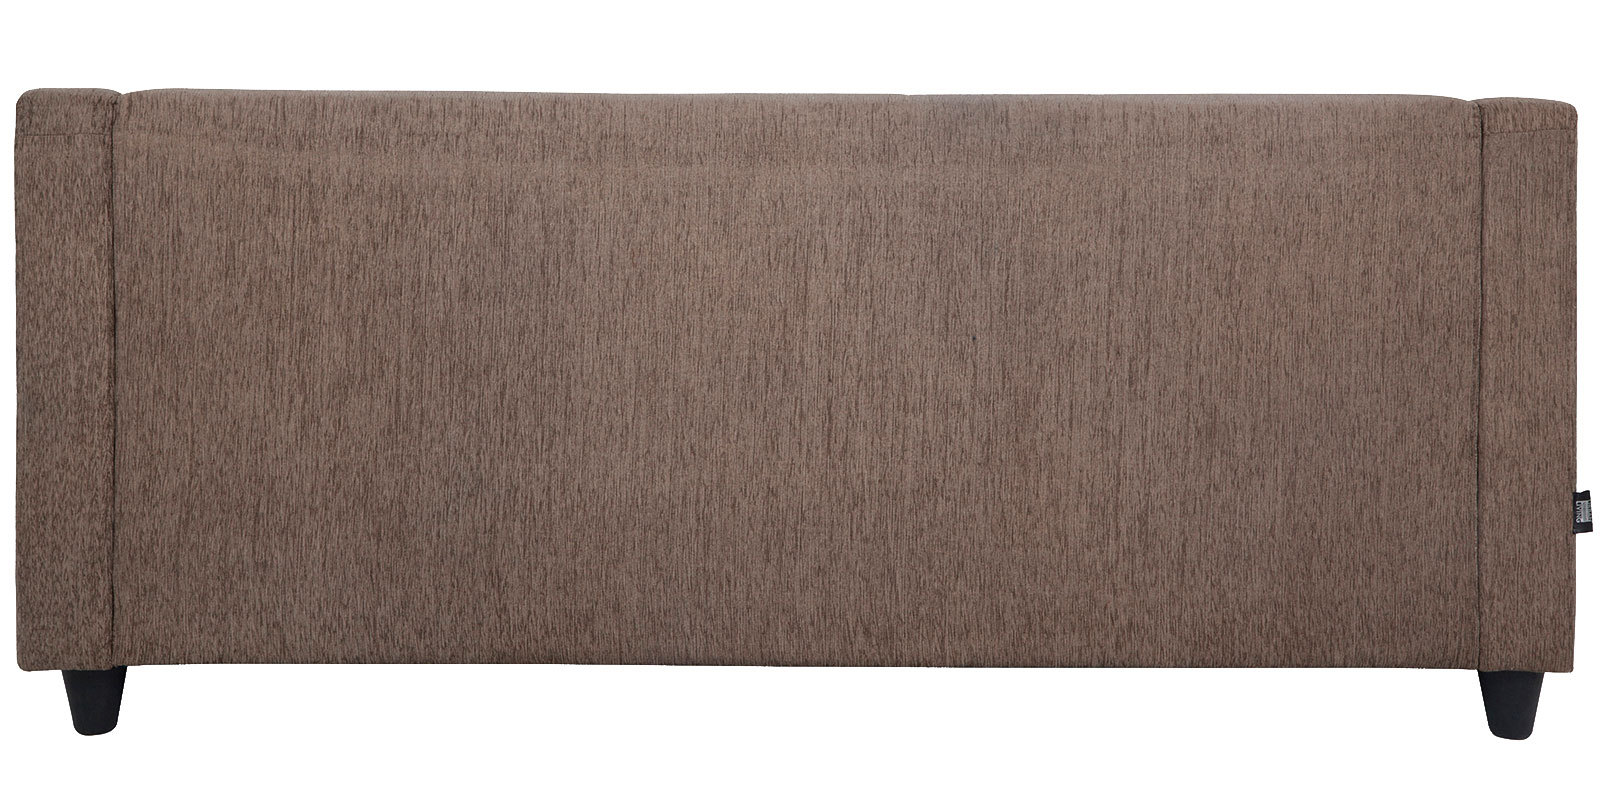Derby Three Seater Sofa in Grey Colour by Urban Living: (2, 55, 1582, 736)
